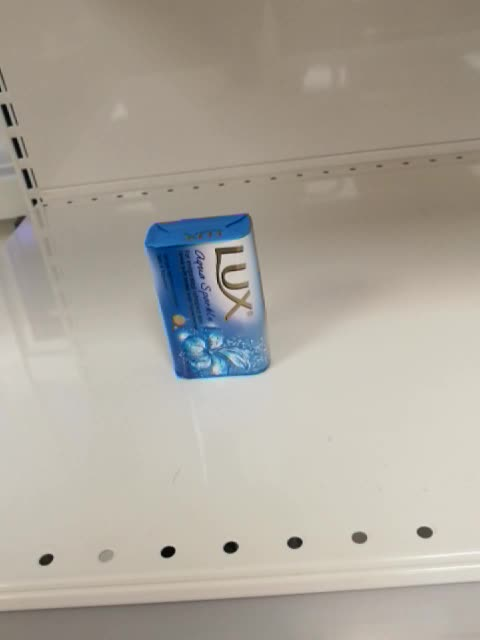soap: (142, 211, 273, 382)
